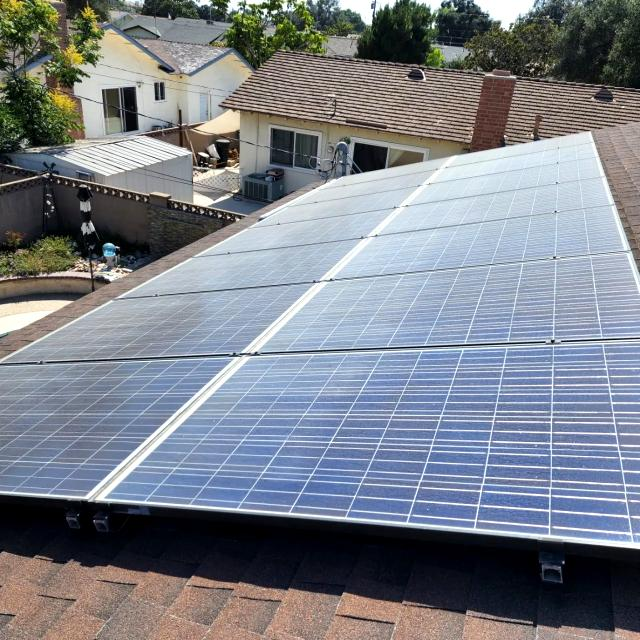dust: (245, 360, 623, 514), (314, 276, 604, 330)
